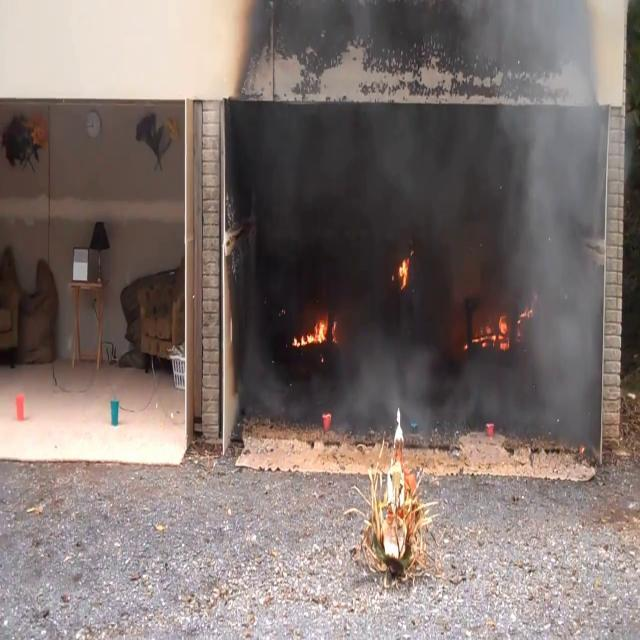Fire: (292, 312, 334, 352), (474, 308, 512, 352), (395, 246, 412, 293)
Smoke: (237, 103, 612, 434)
